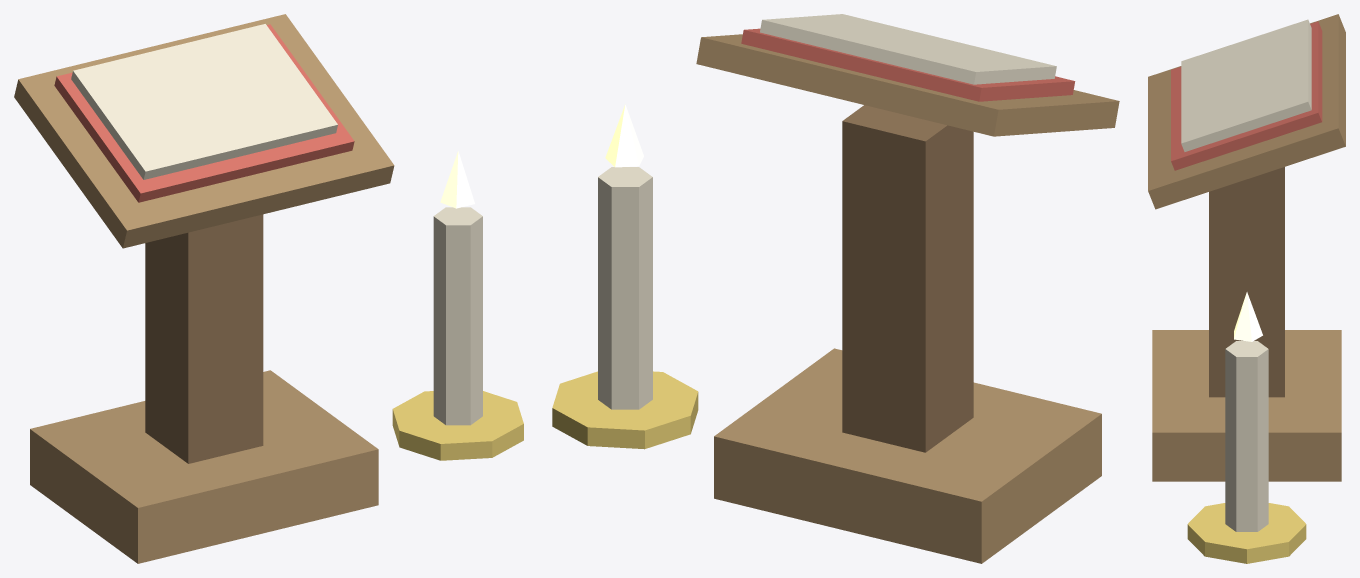
File: Lectern.glb
The picture shows the model from 3 angles, left to right: view 1: azimuth 30°, elevation 25°; view 2: azimuth 150°, elevation 25°; view 3: azimuth 270°, elevation 25°; orthographic projection. The views are drawn at different scales.
Visible parts, largest first — view 1: Lectern_Base, Lectern_Stem, Lectern_Pages, Lectern_Top, Lectern_Candle, Lectern_BookCover, Lectern_CandleBase, Lectern_Flame; view 2: Lectern_Base, Lectern_Stem, Lectern_Top, Lectern_Candle, Lectern_Pages, Lectern_CandleBase, Lectern_BookCover, Lectern_Flame; view 3: Lectern_Base, Lectern_Stem, Lectern_Pages, Lectern_Top, Lectern_Candle, Lectern_CandleBase, Lectern_BookCover, Lectern_Flame.
Part boxes in pixels (<box>): Lectern_Base: <box>30,370,378,563</box>; Lectern_Stem: <box>145,214,263,463</box>; Lectern_Pages: <box>71,24,337,179</box>; Lectern_Top: <box>14,14,394,248</box>; Lectern_Candle: <box>433,207,482,425</box>; Lectern_BookCover: <box>54,24,354,202</box>; Lectern_CandleBase: <box>392,391,523,460</box>; Lectern_Flame: <box>440,151,474,208</box>; Lectern_Base: <box>714,348,1101,563</box>; Lectern_Stem: <box>842,105,973,452</box>; Lectern_Top: <box>696,34,1119,136</box>; Lectern_Candle: <box>598,167,652,409</box>; Lectern_Pages: <box>760,14,1056,84</box>; Lectern_CandleBase: <box>552,371,698,449</box>; Lectern_BookCover: <box>741,28,1075,101</box>; Lectern_Flame: <box>605,104,643,167</box>; Lectern_Base: <box>1152,330,1341,481</box>; Lectern_Stem: <box>1209,167,1284,397</box>; Lectern_Pages: <box>1181,19,1311,151</box>; Lectern_Top: <box>1148,14,1345,209</box>; Lectern_Candle: <box>1225,341,1268,531</box>; Lectern_CandleBase: <box>1187,503,1306,563</box>; Lectern_BookCover: <box>1171,21,1322,170</box>; Lectern_Flame: <box>1234,292,1262,341</box>.
Bounding box in the file's own units: 1.67 × 1.51 × 0.7321.
